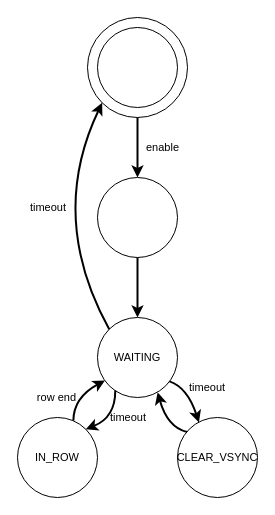
This 275x515 diagram has some shape labels left out. The centre of each missing label's shape, as x and y in pixels:
"SET_VSYNC" goes at point 137,217.
"WAIT_ENABLE" goes at point 137,67.
